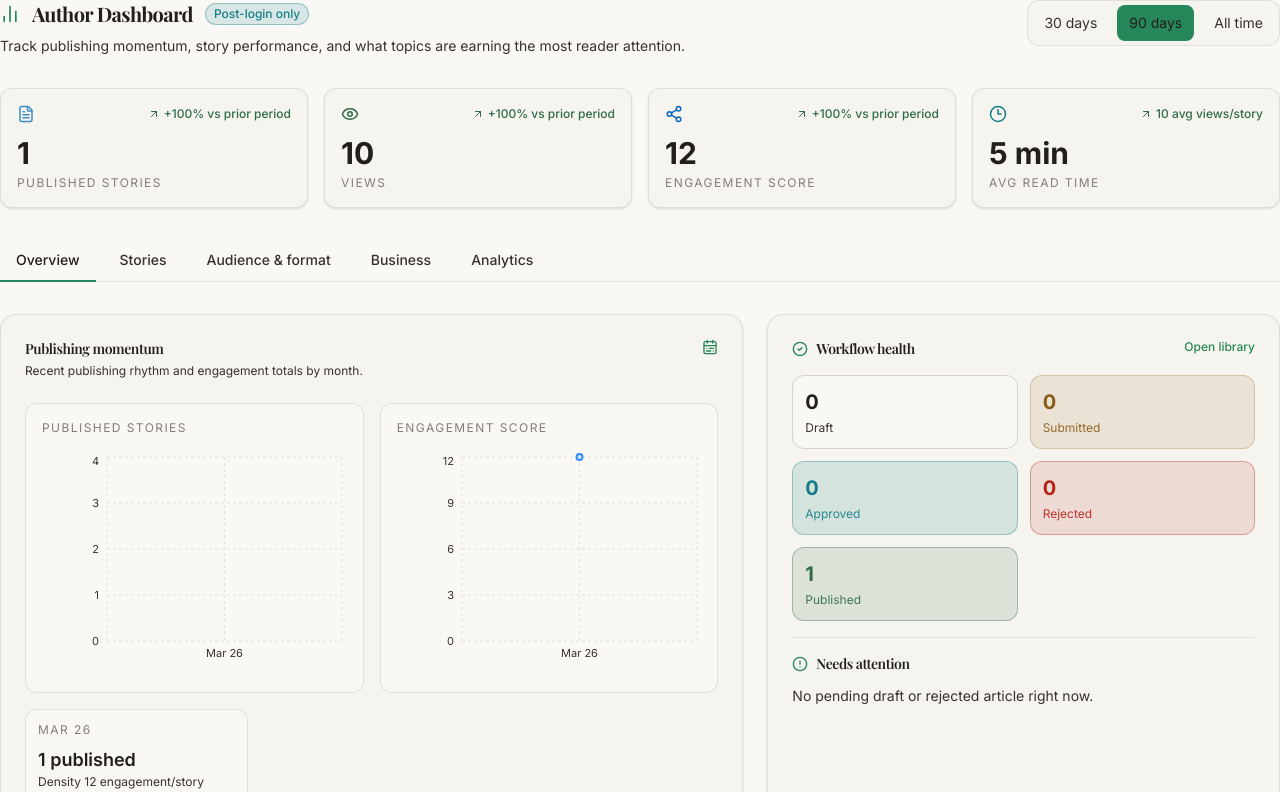
Scenario: StatsPage › shows analytics tab and analytics content when analytics flag is enabled
Step 1. Click the button "Analytics" → coordinates (502, 261), box [455, 240, 549, 282]
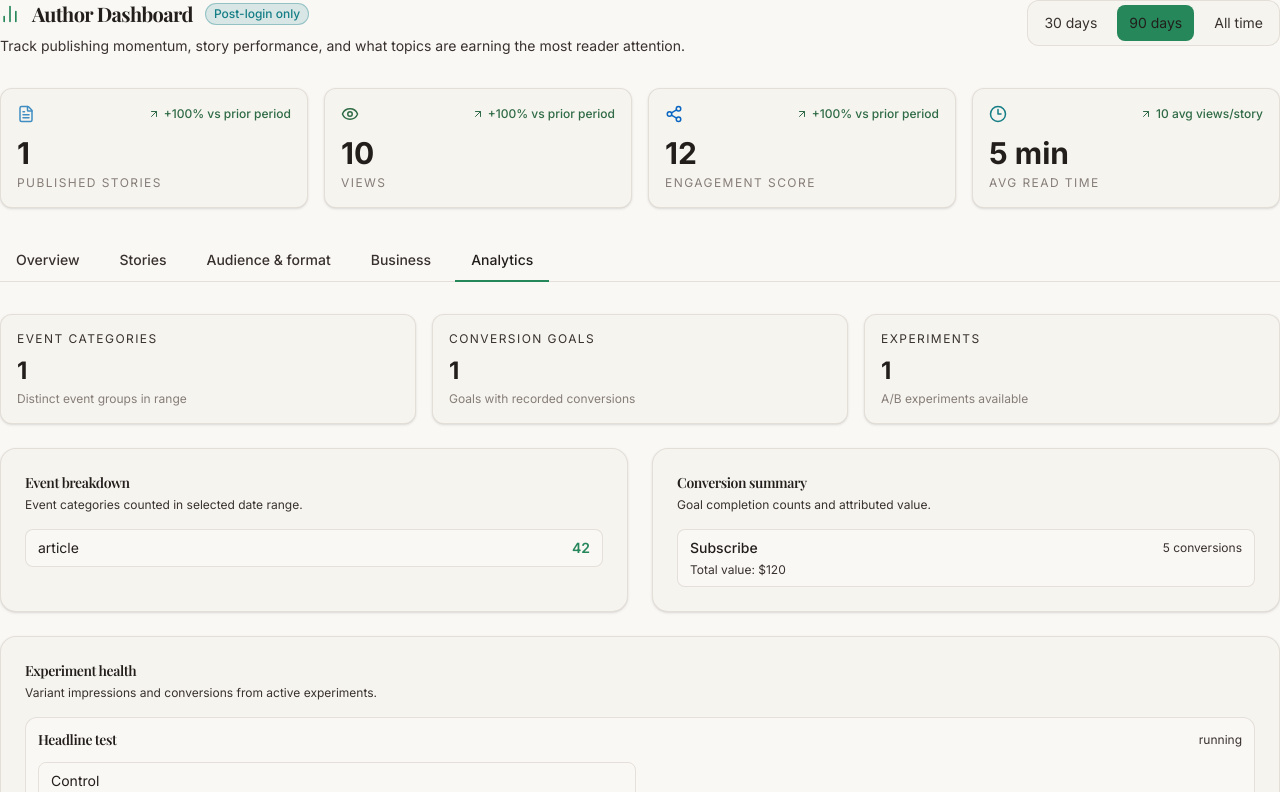
Result: the heading "Event breakdown" is shown at [25, 473, 130, 493]
Result: the heading "Conversion summary" is shown at [677, 473, 807, 493]
Result: the heading "Experiment health" is shown at [25, 661, 136, 681]
